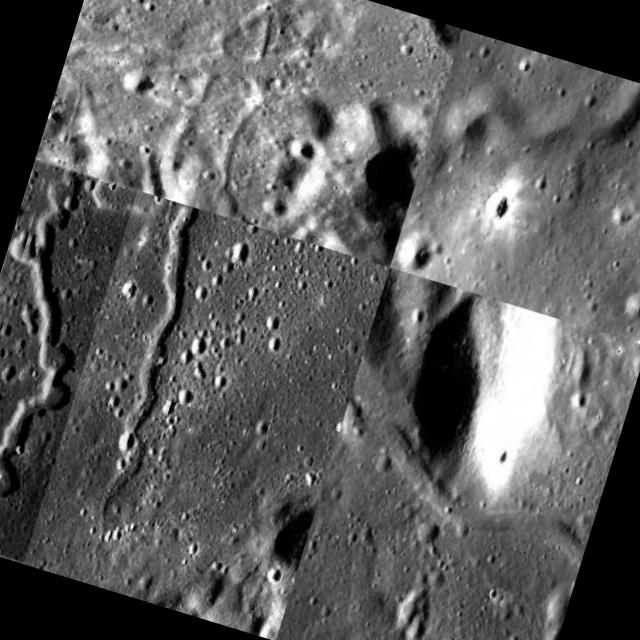rille: (313, 312, 632, 596), (0, 161, 137, 562), (65, 196, 218, 510), (441, 32, 640, 210), (198, 66, 318, 231), (103, 140, 184, 199)
